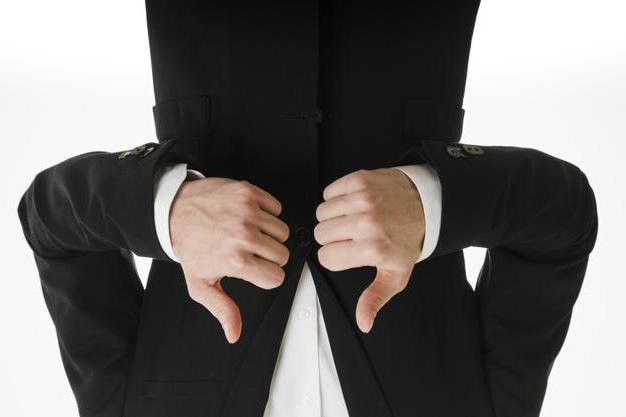thumbsdown: (204, 181, 290, 344), (314, 168, 398, 334)
